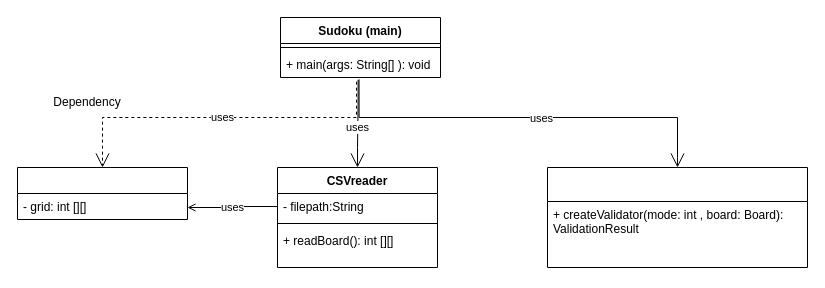
Image size: 825x288. Some labels were removed from this diagram. Here are the shapes that lost their labels. From the top down, the box of each, then its label:
(16, 166, 188, 220): Board
(546, 166, 808, 268): <<interface>> Validator
